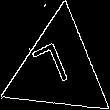L_SE: (36, 40, 81, 99)
